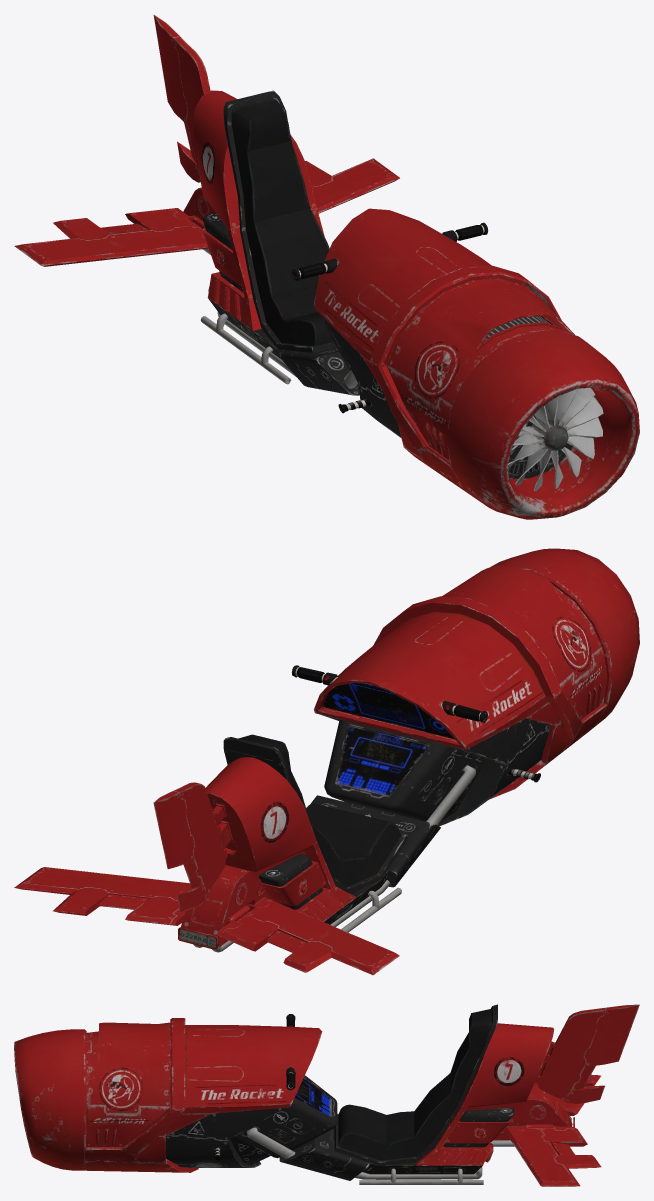
Rendered from hoverbike.glb.
3 renders of one model, top to bottom at view 1: azimuth 30°, elevation 25°; view 2: azimuth 150°, elevation 25°; view 3: azimuth 270°, elevation 25°, orthographic. The views are drawn at different scales.
Parts seen in each view (by area): view 1: body; view 2: body; view 3: body.
Boxes of the visible parts, box(x1,y1,x2,y2) form: body: box(14, 15, 639, 519); body: box(14, 548, 639, 975); body: box(14, 1004, 639, 1186).
Bounding box in the file's own units: 1.76 × 1.04 × 3.6.
1 material, 1 textured.
